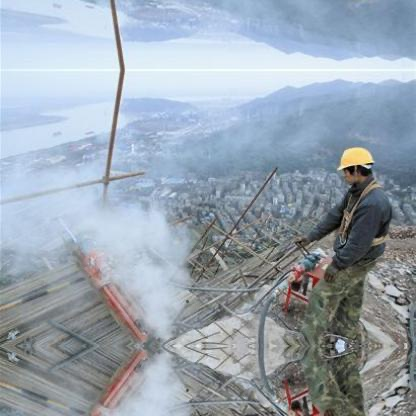Safety Helmet: (337, 144, 379, 193)
